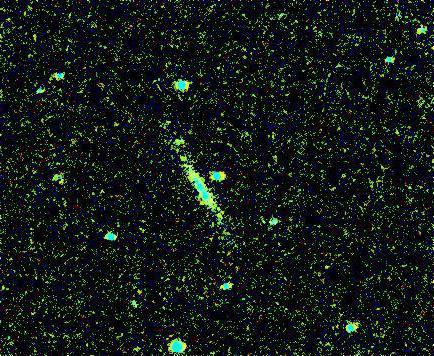star: (165, 134, 195, 164)
